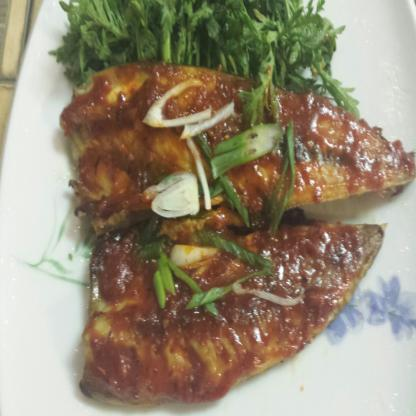Peixe: (60, 60, 416, 410)
